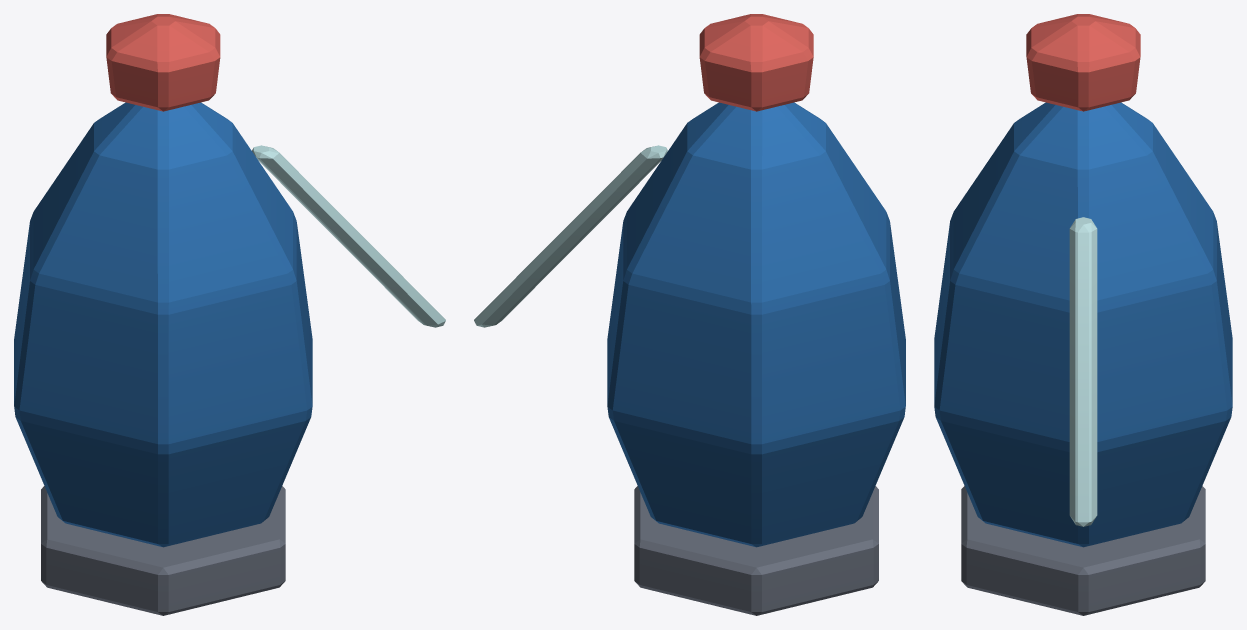
Rendered from alembic.glb.
3 views of the same model, side by side, from view 1: azimuth 30°, elevation 25°; view 2: azimuth 150°, elevation 25°; view 3: azimuth 270°, elevation 25° (orthographic).
Visible parts, largest first — view 1: alembic; view 2: alembic; view 3: alembic.
Boxes of the visible parts, x1,y1,x2,y2 form: alembic: (14, 14, 445, 615); alembic: (474, 14, 905, 615); alembic: (934, 14, 1232, 615).
Size of the model in its own units: 0.3698 by 0.4458 by 0.2241.
Materials: 1 (1 with a texture image).
